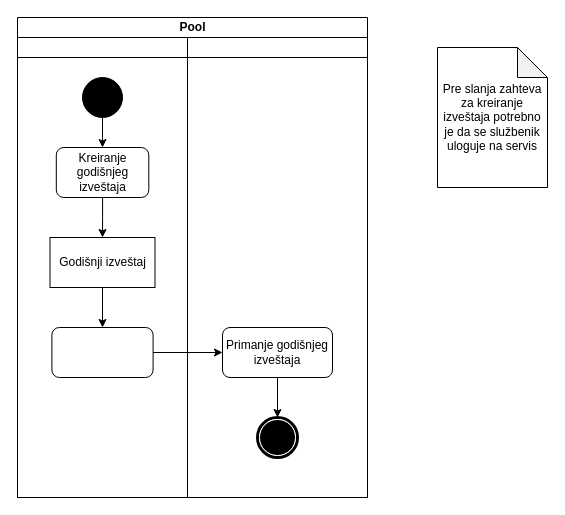
Image size: 565x515. Some labels were removed from this diagram. The box of each missing label's shape, as (x1, y1, x2, y2) in pixels:
Poverenik: (186, 36, 368, 498)
Slanje godišnjeg izveštaja: (51, 326, 153, 378)
Službenik: (16, 36, 188, 498)
